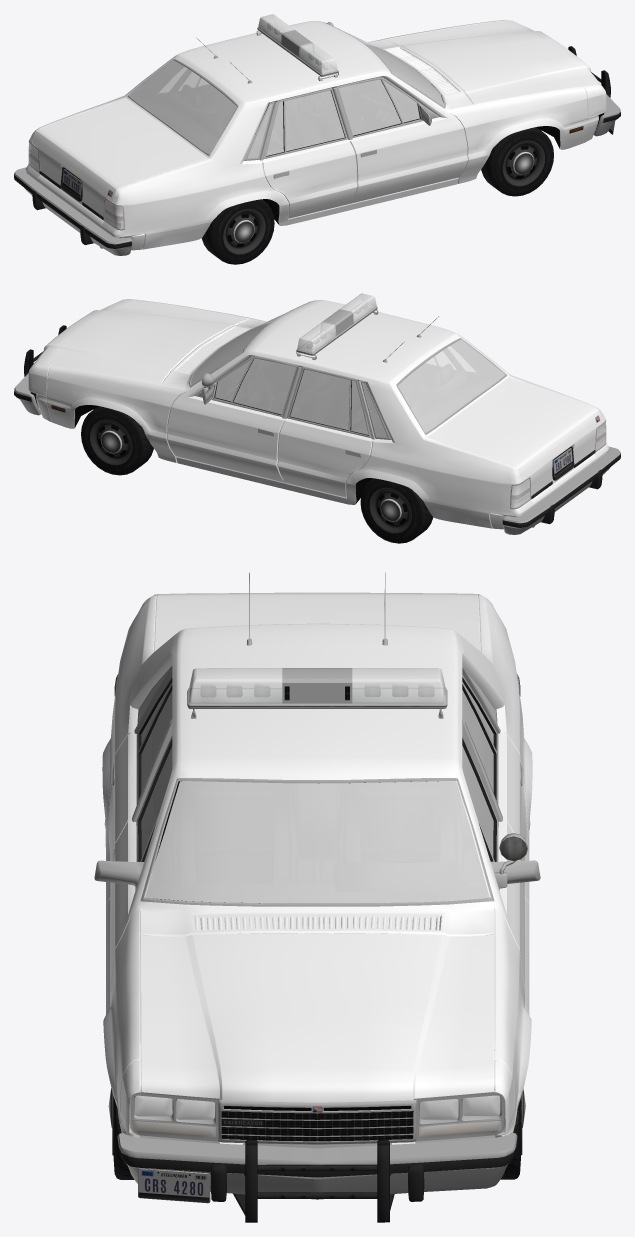
File: cop80.glb
The picture shows the model from 3 angles, top to bottom: view 1: azimuth 30°, elevation 25°; view 2: azimuth 150°, elevation 25°; view 3: azimuth 270°, elevation 25°; orthographic projection. The views are drawn at different scales.
Parts seen in each view (by area): view 1: body, spin_FR, spin_RR; view 2: body, spin_FL, spin_RL; view 3: body.
Part boxes in pixels (<box>): body: <box>14,14,620,255</box>; spin_FR: <box>481,127,553,196</box>; spin_RR: <box>201,199,274,264</box>; body: <box>14,293,620,534</box>; spin_FL: <box>81,406,153,475</box>; spin_RL: <box>360,478,433,543</box>; body: <box>94,572,540,1222</box>.
Bounding box in the file's own units: 5.2 × 1.61 × 1.88.
7 materials, 4 textured.
